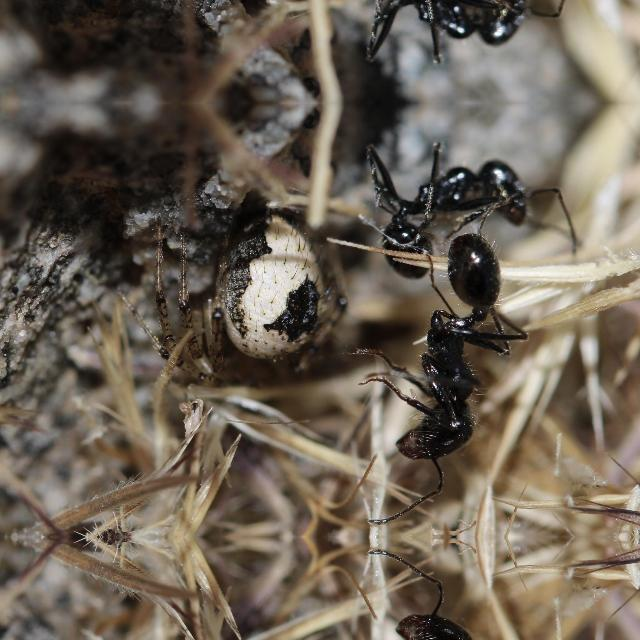Messor: (355, 224, 517, 486), (346, 121, 550, 281), (345, 0, 550, 83), (355, 586, 517, 640)
